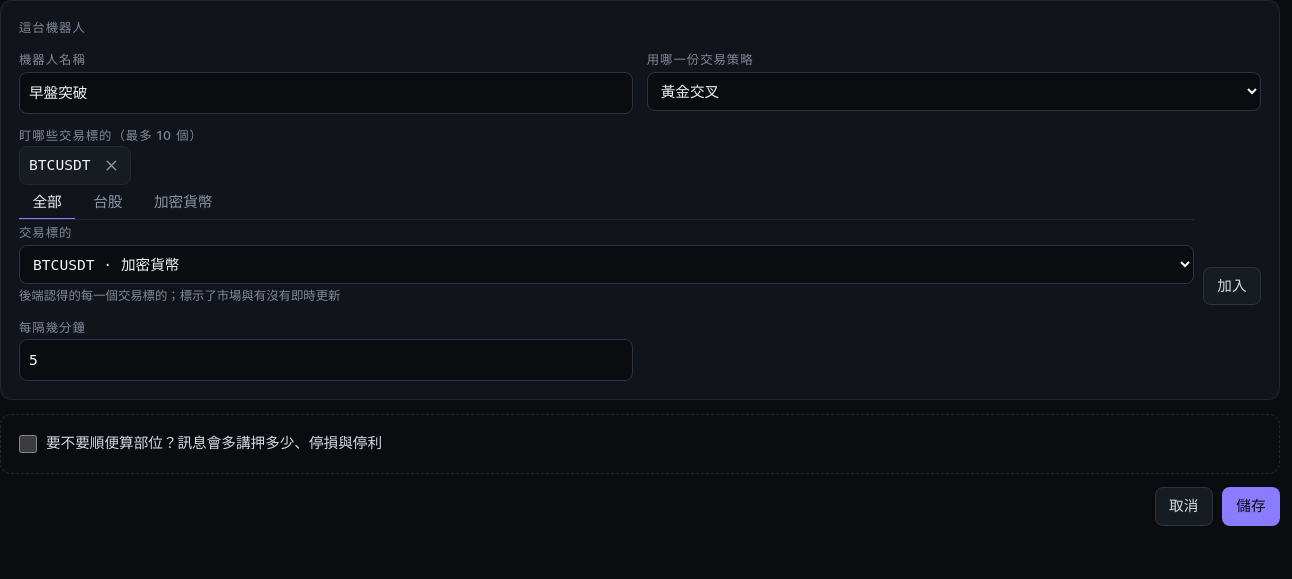
Test case: StrategyBotForm 的監聽標的 › 一個都沒挑時送不出去，並說出是哪一件事
Click the button with test id "bot-watched-symbol-remove" at (111, 165), box [93,147,130,184]
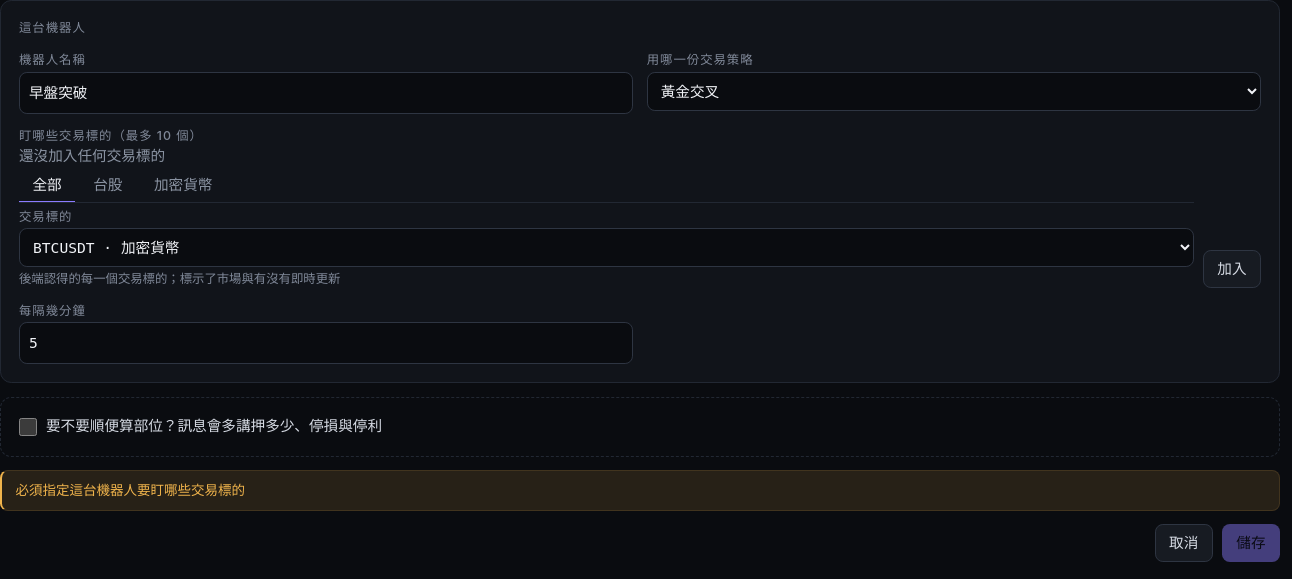
Check: the text "還沒加入任何交易標的" is shown, box [19,147,165,165]
Check: the message with test id "bot-form-rejection" reads "必須指定這台機器人要盯哪些交易標的", box [16,482,245,498]
Check: the button with test id "bot-form-save" is disabled, box [1222,524,1280,562]
